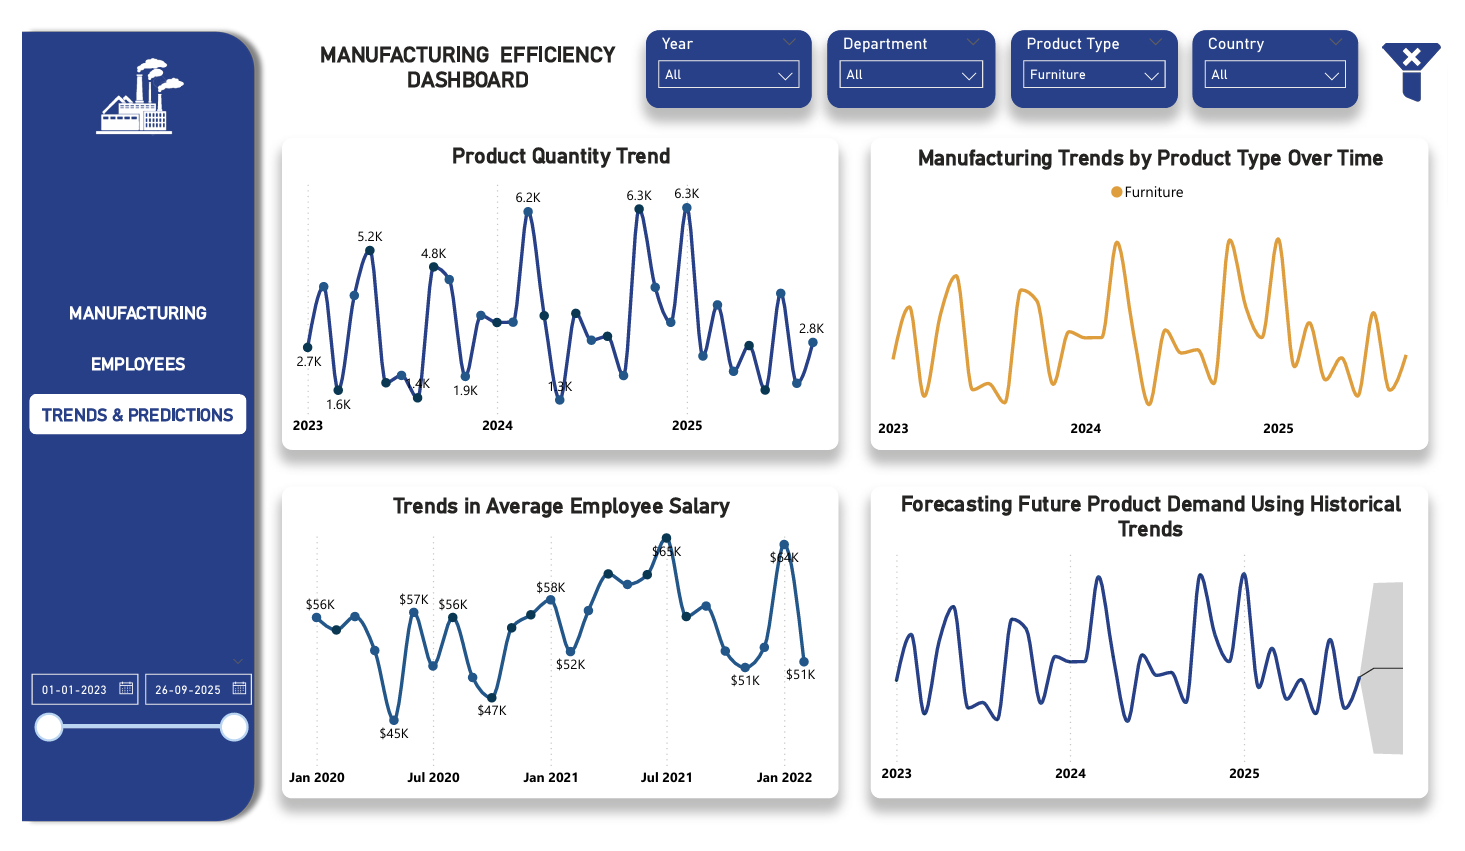

The dashboard page shown, as its layout file describes it:
{"tool":"powerbi","page":{"name":"Task 21-23","canvas":[1280,720],"ordinal":7},"visuals":[{"type":"donutChart","title":"Department-wise Contribution to Total Production Cost","fields":{"Category":["Employees_Dataset.Department"],"Y":["Sum(Manufacturing_Dataset.ProductionCost)"]},"box":[16.1,12.4,488.9,347.4],"z":0},{"type":"lineChart","title":"Forecasting Future Product Demand Using Historical Trends","fields":{"Category":["Manufacturing_Dataset.ProductionDate.Variation.Date Hierarchy.Year","Manufacturing_Dataset.ProductionDate.Variation.Date Hierarchy.Month"],"Y":["Sum(Manufacturing_Dataset.QuantityProduced)"]},"box":[518.7,12.4,738.3,347.4],"z":1000},{"type":"lineChart","title":"Time Series Forecast of Production Costs","fields":{"Category":["Manufacturing_Dataset.ProductionDate.Variation.Date Hierarchy.Year","Manufacturing_Dataset.ProductionDate.Variation.Date Hierarchy.Month"],"Y":["Sum(Manufacturing_Dataset.ProductionCost)"]},"box":[15.7,375.2,1241.4,345],"z":2000}]}

Visuals, with their boxes on the page's 1280x720 design canvas (x1, y1, x2, y2). These are canvas units, not pixel positions in the 1465x851 screenshot, which may show the page scaled, cropped or inside an application window:
"Department-wise Contribution to Total Production Cost" donutChart: x1=16 y1=12 x2=505 y2=360
"Forecasting Future Product Demand Using Historical Trends" lineChart: x1=519 y1=12 x2=1257 y2=360
"Time Series Forecast of Production Costs" lineChart: x1=16 y1=375 x2=1257 y2=720
